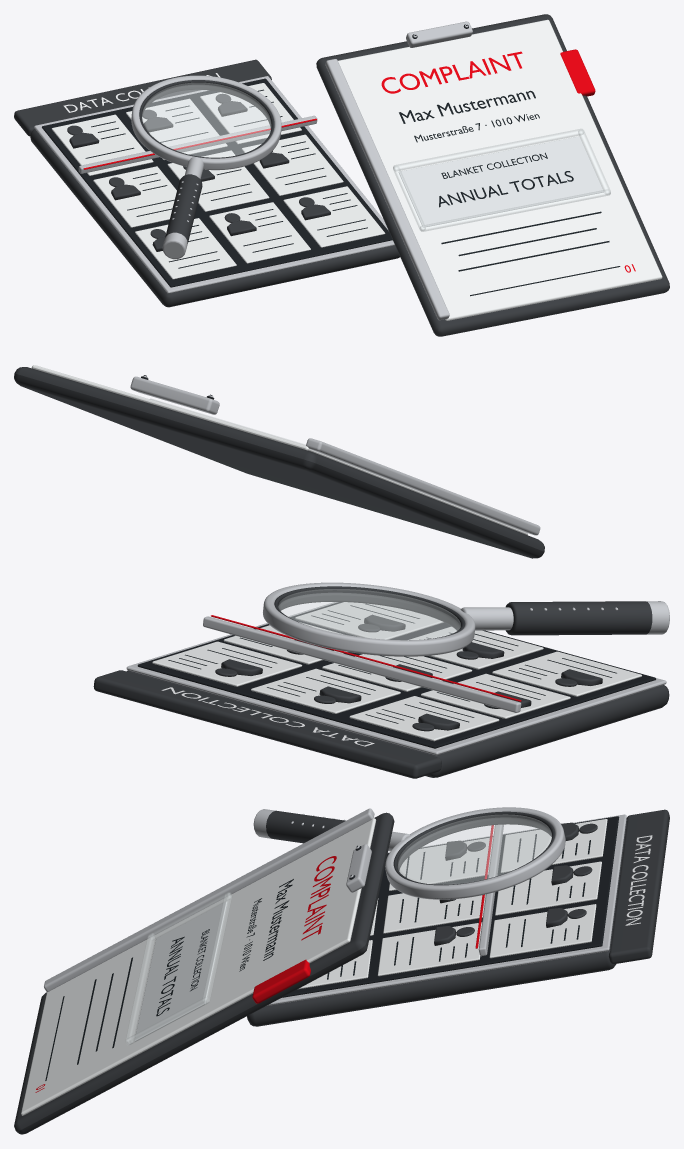
The model's file is collection-review-en.glb.
The picture shows the model from 3 angles, top to bottom: view 1: azimuth 30°, elevation 25°; view 2: azimuth 150°, elevation 25°; view 3: azimuth 270°, elevation 25°; orthographic projection. The views are drawn at different scales.
Visible parts, largest first — view 1: Complaint page block.003, Complaint evidence panel.003, Collection tray matte bed.001, Complaint folio rear cover.003, Evidence magnifier optical lens.001, Small shared collection tray.001, Collection tray titanium perimeter.001, Complaint filing spine.003, Shared collection top nameplate.001, Thin collected paper record.011, Thin collected paper record.010, Evidence magnifier polished outer rim.001 (+20 smaller); view 2: Complaint folio rear cover.003, Shared collection top nameplate.001, Collection tray matte bed.001, Evidence magnifier optical lens.001, Small shared collection tray.001, Evidence magnifier polished outer rim.001, Evidence magnifier graphite handle.001, Collection tray titanium perimeter.001, One common processing rail.001, Evidence magnifier graphite seal.001, Thin collected paper record.017, Thin collected paper record.009 (+14 smaller); view 3: Complaint page block.003, Complaint folio rear cover.003, Evidence magnifier optical lens.001, Small shared collection tray.001, Complaint evidence panel.003, Collection tray matte bed.001, Shared collection top nameplate.001, Complaint filing spine.003, Evidence magnifier polished outer rim.001, Thin collected paper record.017, Collection tray titanium perimeter.001, Thin collected paper record.014 (+16 smaller).
Part boxes in pixels (x1,y1,x2,y2): Complaint page block.003: (338, 19, 662, 320); Complaint evidence panel.003: (398, 136, 603, 227); Collection tray matte bed.001: (42, 78, 392, 287); Complaint folio rear cover.003: (316, 14, 669, 336); Evidence magnifier optical lens.001: (142, 83, 271, 157); Small shared collection tray.001: (30, 128, 399, 307); Collection tray titanium perimeter.001: (34, 76, 394, 293); Complaint filing spine.003: (325, 59, 449, 320); Shared collection top nameplate.001: (14, 59, 271, 136); Thin collected paper record.011: (283, 186, 385, 247); Thin collected paper record.010: (209, 202, 310, 263); Evidence magnifier polished outer rim.001: (131, 75, 281, 170); Complaint folio rear cover.003: (14, 367, 544, 558); Shared collection top nameplate.001: (93, 670, 441, 778); Collection tray matte bed.001: (137, 602, 655, 748); Evidence magnifier optical lens.001: (278, 589, 460, 639); Small shared collection tray.001: (127, 670, 669, 777); Evidence magnifier polished outer rim.001: (263, 582, 475, 656); Evidence magnifier graphite handle.001: (505, 601, 652, 635); Collection tray titanium perimeter.001: (126, 602, 666, 755); One common processing rail.001: (203, 616, 521, 712); Evidence magnifier graphite seal.001: (274, 586, 465, 639); Thin collected paper record.017: (152, 641, 302, 686); Thin collected paper record.009: (492, 651, 641, 696); Complaint page block.003: (21, 818, 376, 1115); Complaint folio rear cover.003: (14, 812, 394, 1134); Evidence magnifier optical lens.001: (397, 814, 551, 884); Small shared collection tray.001: (247, 818, 627, 1026); Complaint evidence panel.003: (134, 901, 227, 1041); Collection tray matte bed.001: (281, 816, 619, 997); Shared collection top nameplate.001: (608, 809, 669, 964); Complaint filing spine.003: (44, 808, 374, 992); Evidence magnifier polished outer rim.001: (385, 807, 565, 899); Thin collected paper record.017: (489, 904, 596, 958); Collection tray titanium perimeter.001: (266, 814, 626, 1005); Thin collected paper record.014: (377, 922, 482, 976).
Size of the model in its own units: 6.11 by 2.5 by 6.66.
4 materials, 4 textured.
